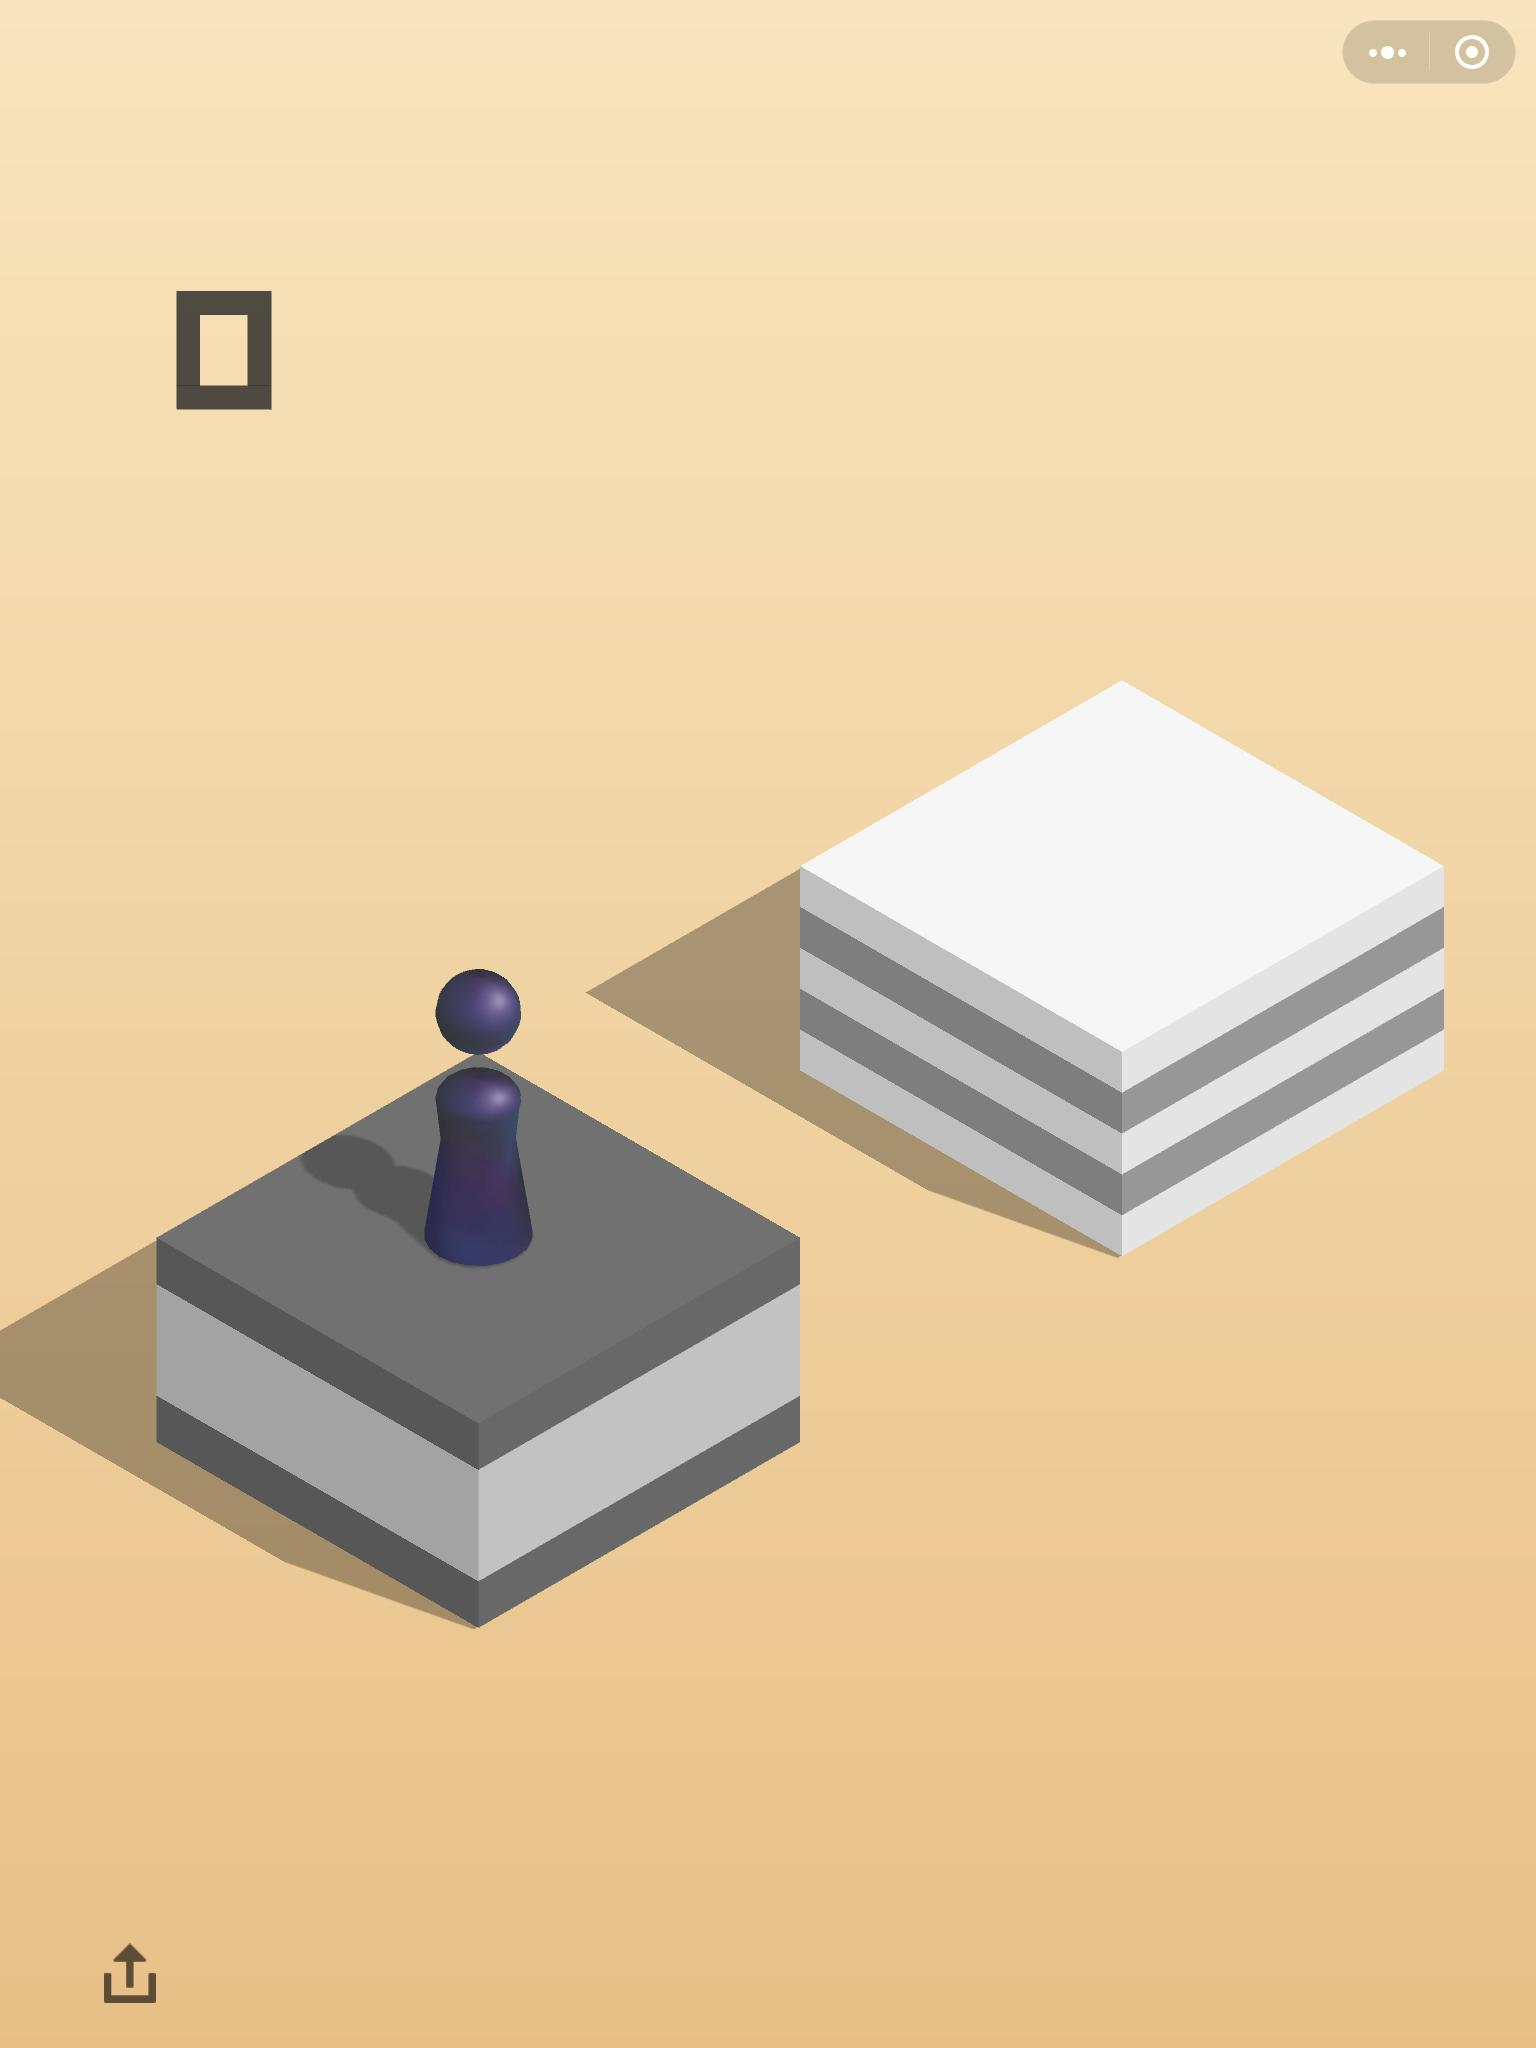f: (791, 651, 1467, 1276), (137, 1040, 818, 1640)
r: (413, 951, 560, 1277)
